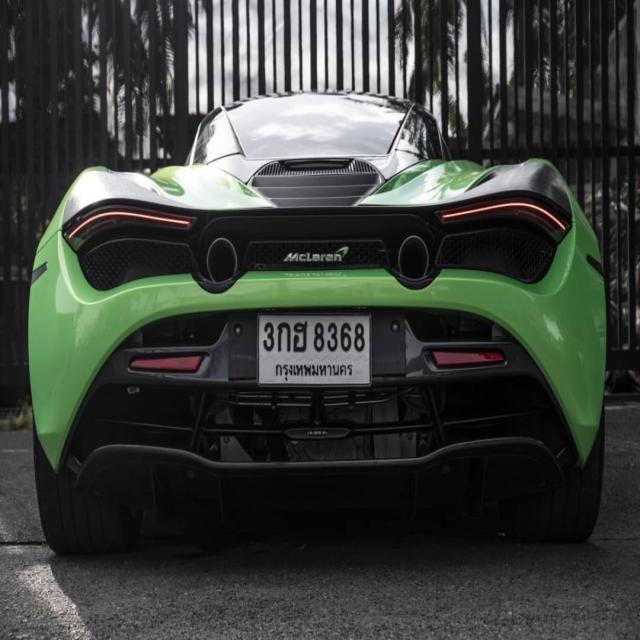license_plate: (257, 308, 373, 385)
